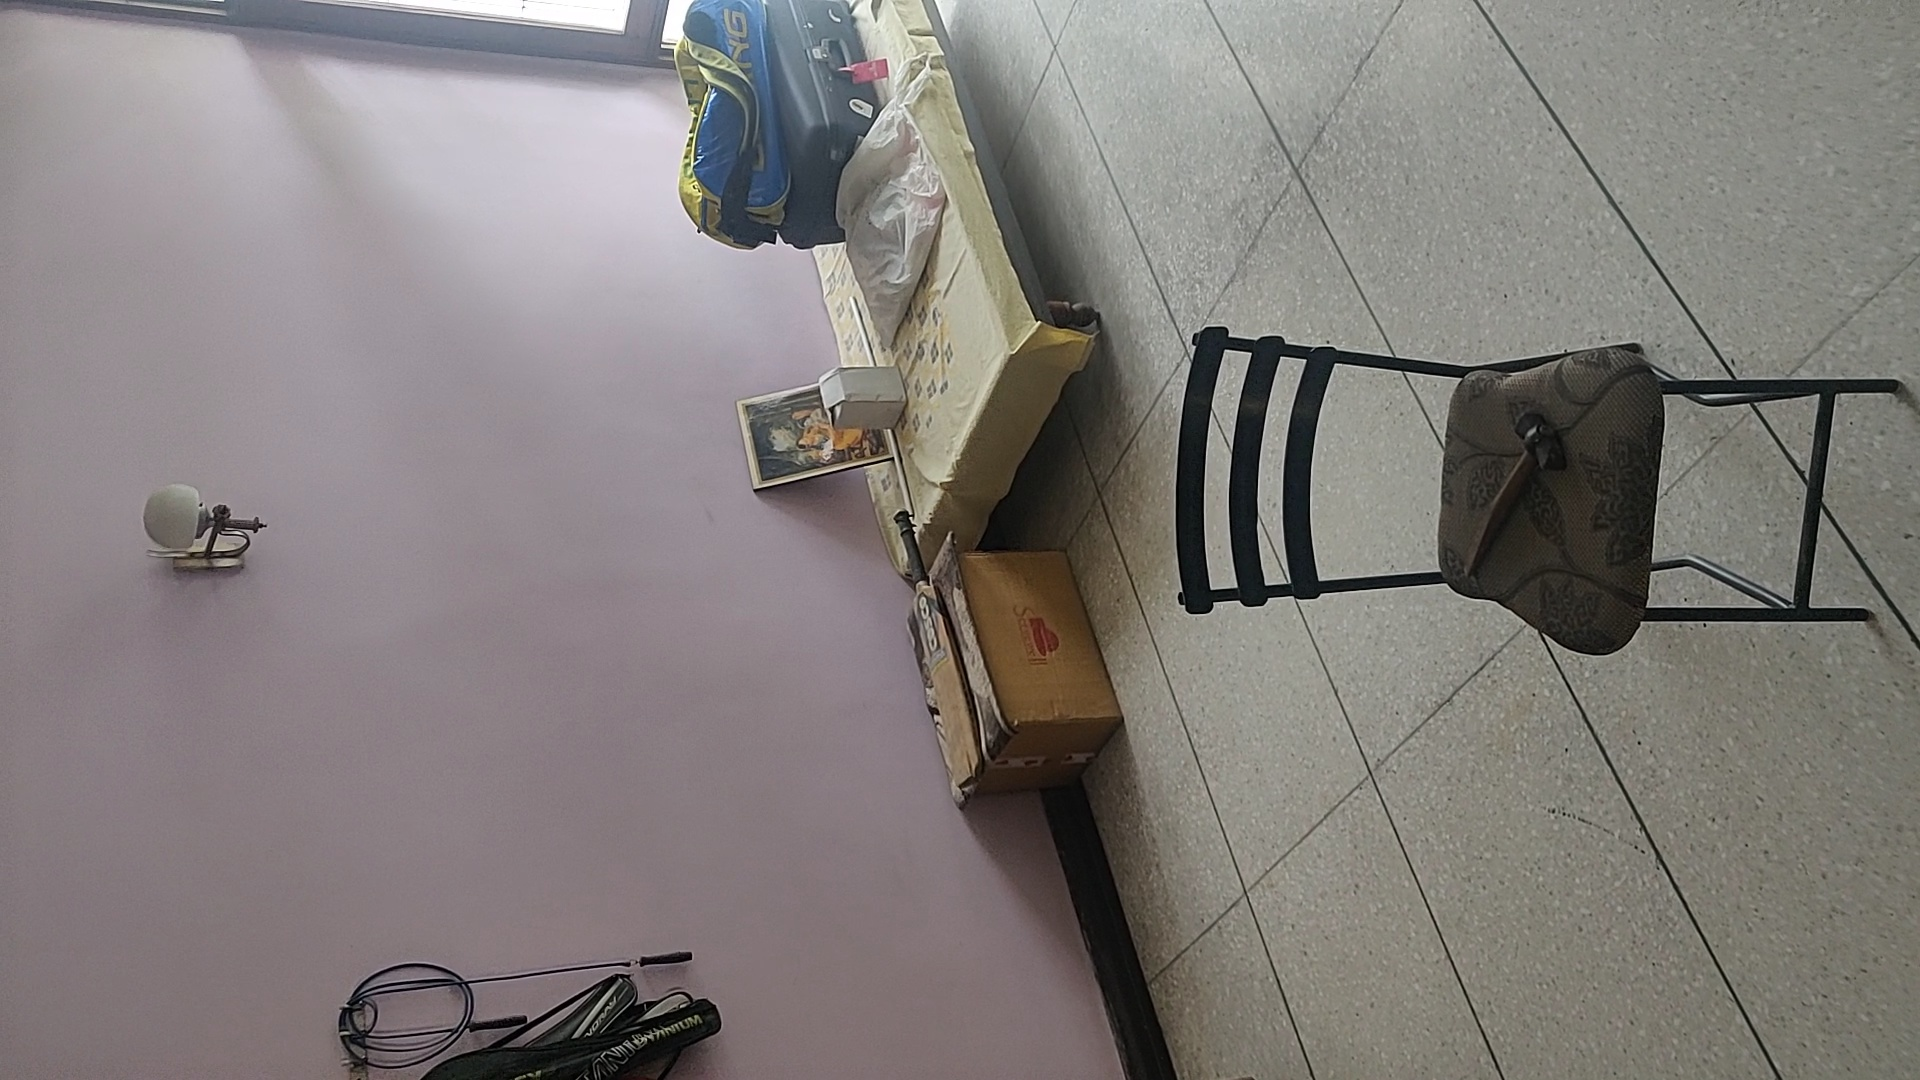hammer: (1456, 410, 1572, 575)
